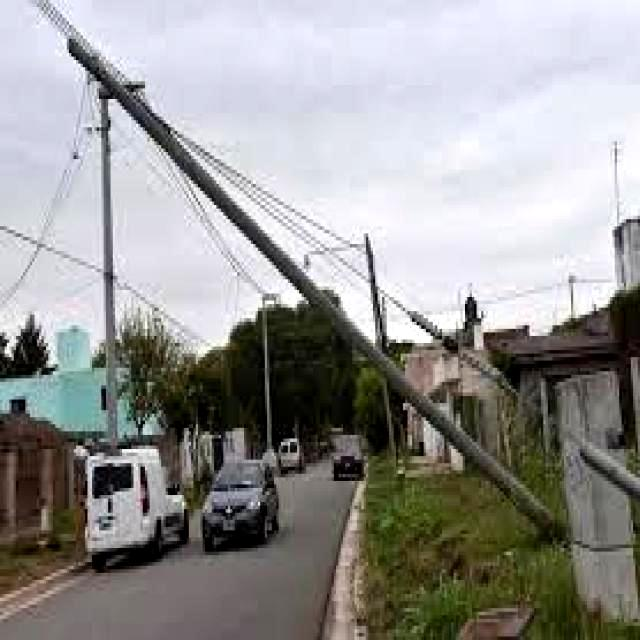Broken Pole: (61, 26, 564, 531)
